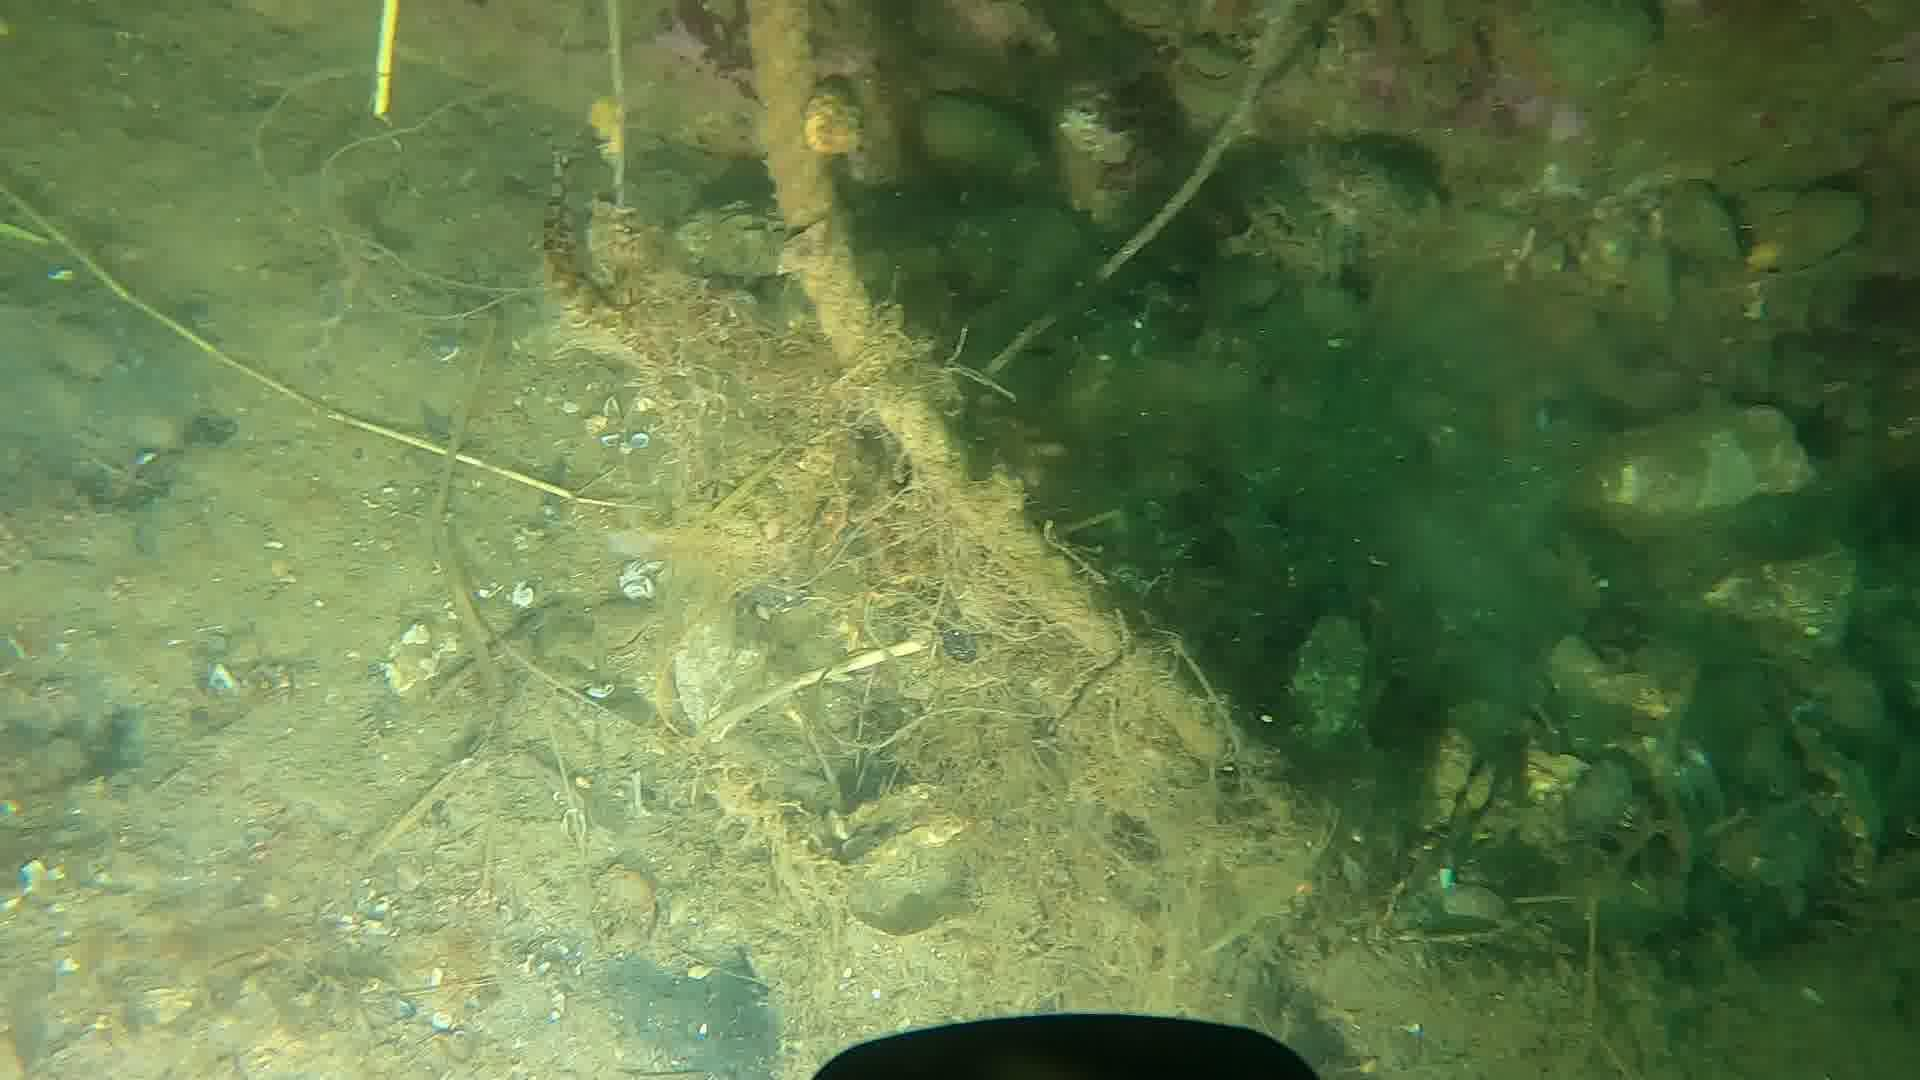rope: (752, 0, 1232, 756), (978, 0, 1283, 382)
